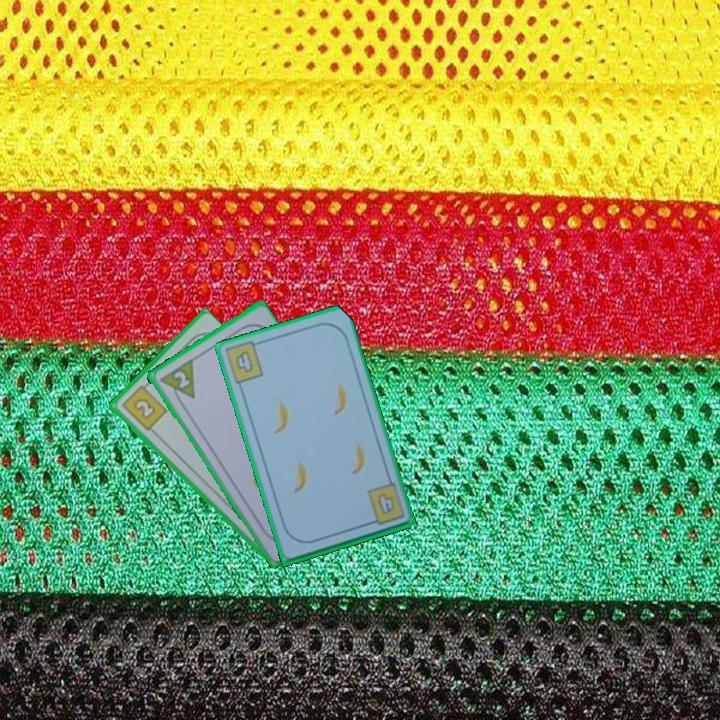2b: (118, 379, 169, 434)
2p: (155, 355, 198, 408)
4b: (221, 337, 266, 387), (374, 489, 397, 518)
